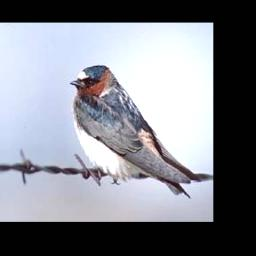Swallow: (72, 64, 202, 202)
